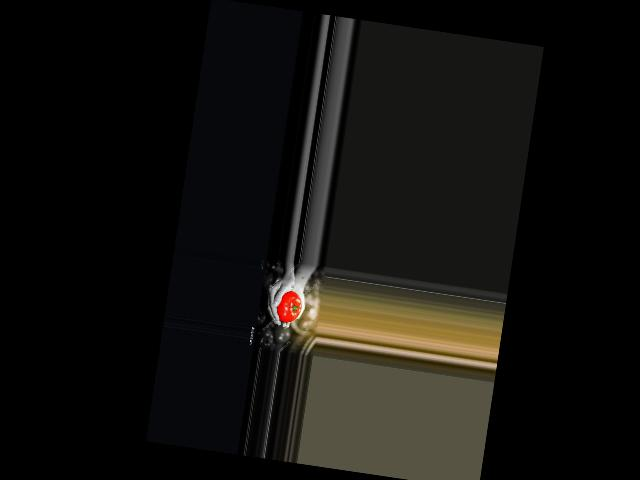tomato: (274, 289, 303, 323)
